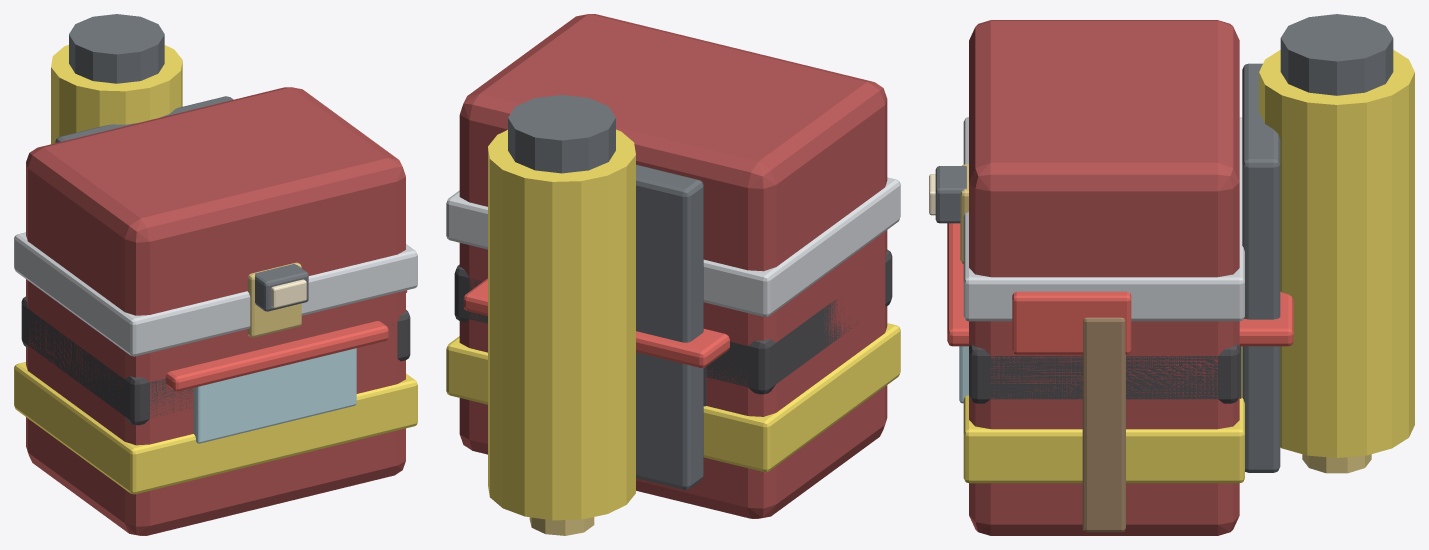
Rendered from SM_ResponderKit_Firefighter.fbx.
3 views of the same model, side by side, from view 1: azimuth 30°, elevation 25°; view 2: azimuth 150°, elevation 25°; view 3: azimuth 270°, elevation 25° (orthographic). The views are drawn at different scales.
Visible parts, largest first — view 1: FireTurnoutAndSCBA, FirefighterHelmet, FireBunkerBelt; view 2: FireTurnoutAndSCBA, FireBunkerBelt, FirefighterHelmet; view 3: FireTurnoutAndSCBA, FireBunkerBelt, FirefighterHelmet.
Boxes of the visible parts, x1,y1,x2,y2 form: FireTurnoutAndSCBA: (14,14,417,535); FirefighterHelmet: (165,262,388,443); FireBunkerBelt: (21,290,410,425); FireTurnoutAndSCBA: (446,14,900,535); FireBunkerBelt: (454,249,892,394); FirefighterHelmet: (463,278,729,406); FireTurnoutAndSCBA: (963,14,1414,535); FireBunkerBelt: (969,291,1239,532); FirefighterHelmet: (929,164,1293,403).
Bounding box in the file's own units: 37.5 × 44.9 × 43.5.
